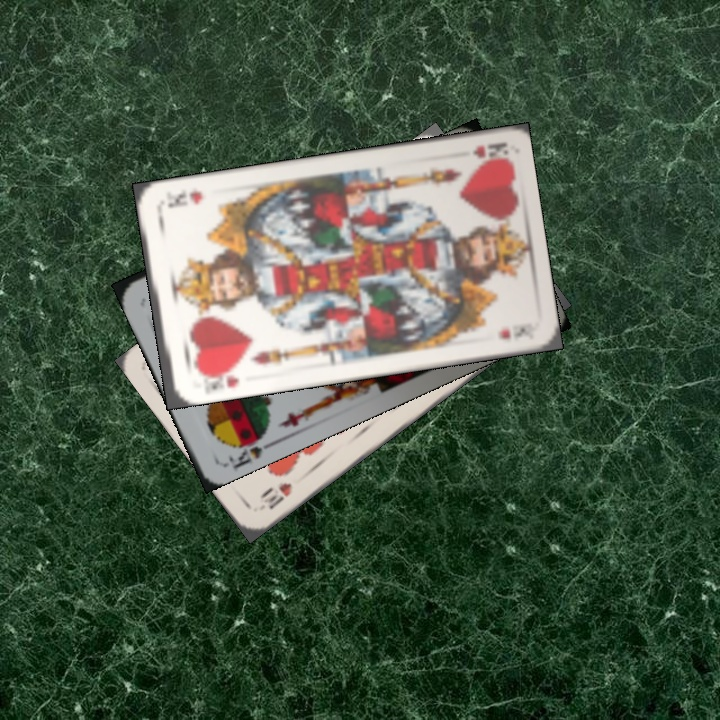H10: (255, 478, 294, 512)
HK: (195, 363, 241, 392), (469, 138, 507, 164)
SK: (224, 426, 277, 471)
